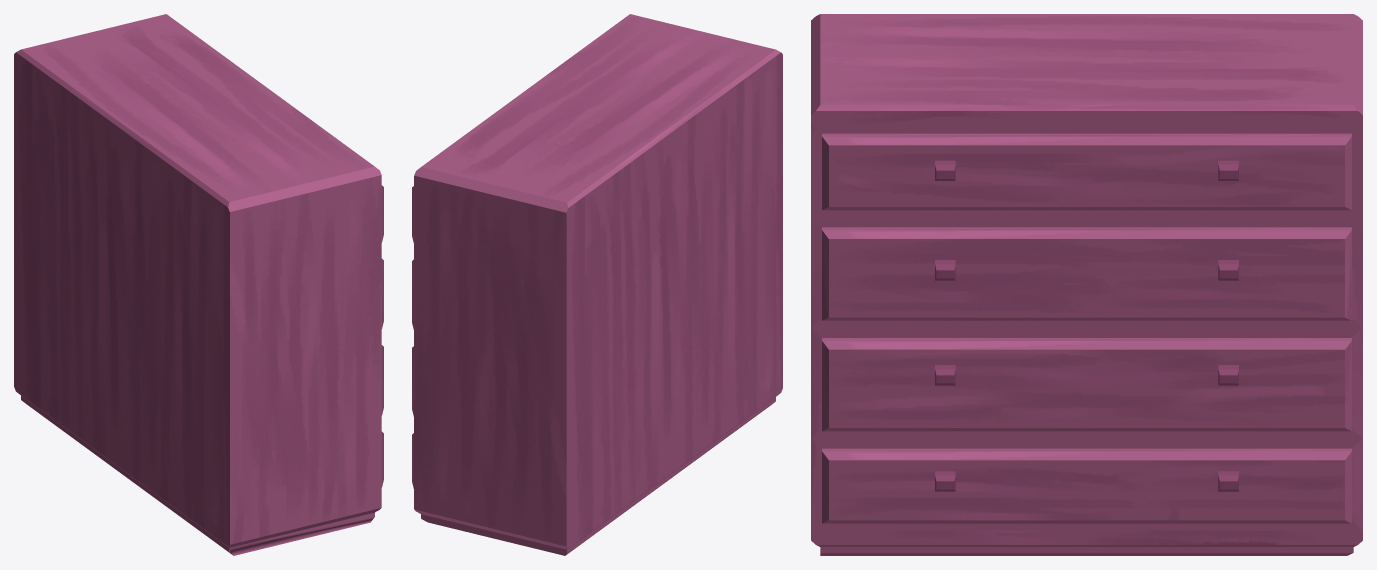
File: Dresser_Bedroom_01.fbx
3 views of the same model, side by side, from view 1: azimuth 30°, elevation 25°; view 2: azimuth 150°, elevation 25°; view 3: azimuth 270°, elevation 25° (orthographic). The views are drawn at different scales.
Visible parts, largest first — view 1: Dresser_Entry_01; view 2: Dresser_Entry_01; view 3: Dresser_Entry_01.
Boxes of the visible parts, left/top/right/bottom form: Dresser_Entry_01: left=14, top=14, right=383, bottom=555; Dresser_Entry_01: left=412, top=14, right=782, bottom=555; Dresser_Entry_01: left=811, top=14, right=1362, bottom=555.
Bounding box in the file's own units: 0.457 × 0.9077 × 1.
